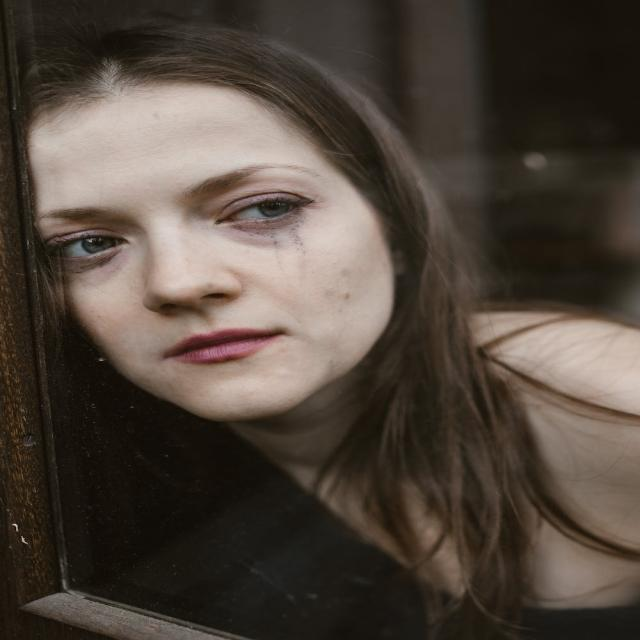natural: (22, 121, 400, 415)
